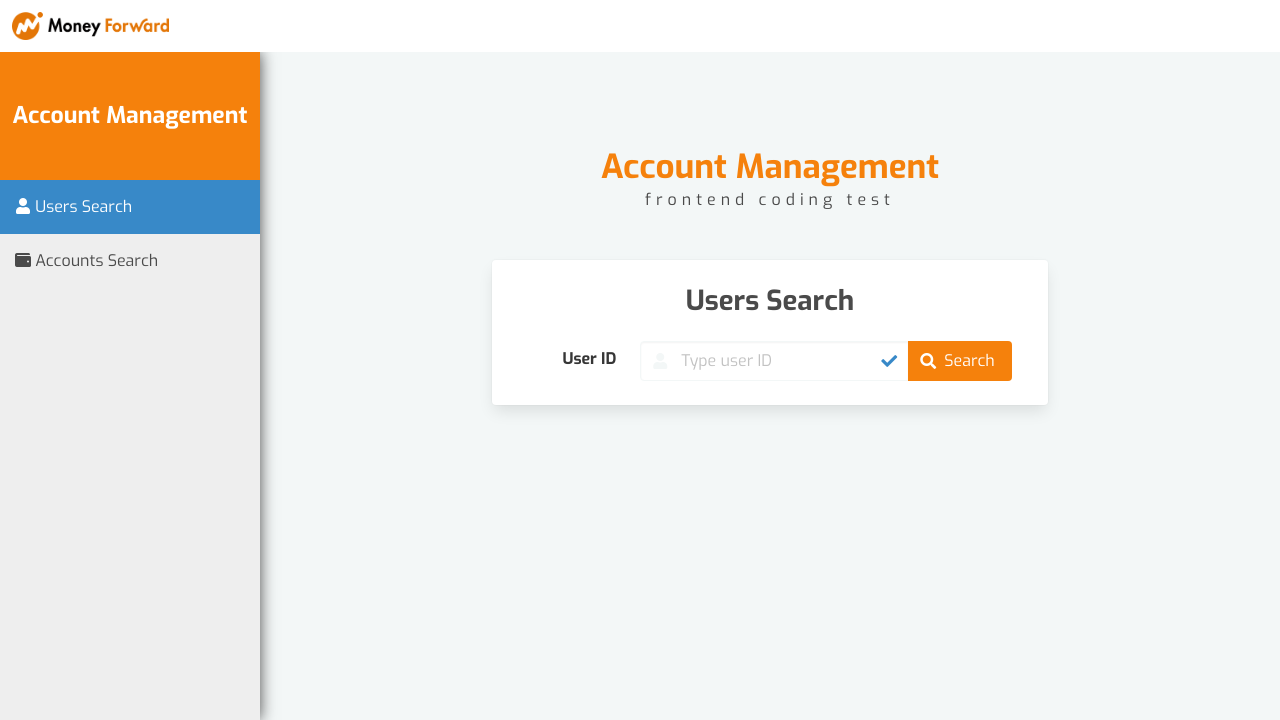
Test: Users Search › Should submit users search form
Type "1" into the field with placeholder "Type user ID" at (775, 361), box [640,341,909,381]
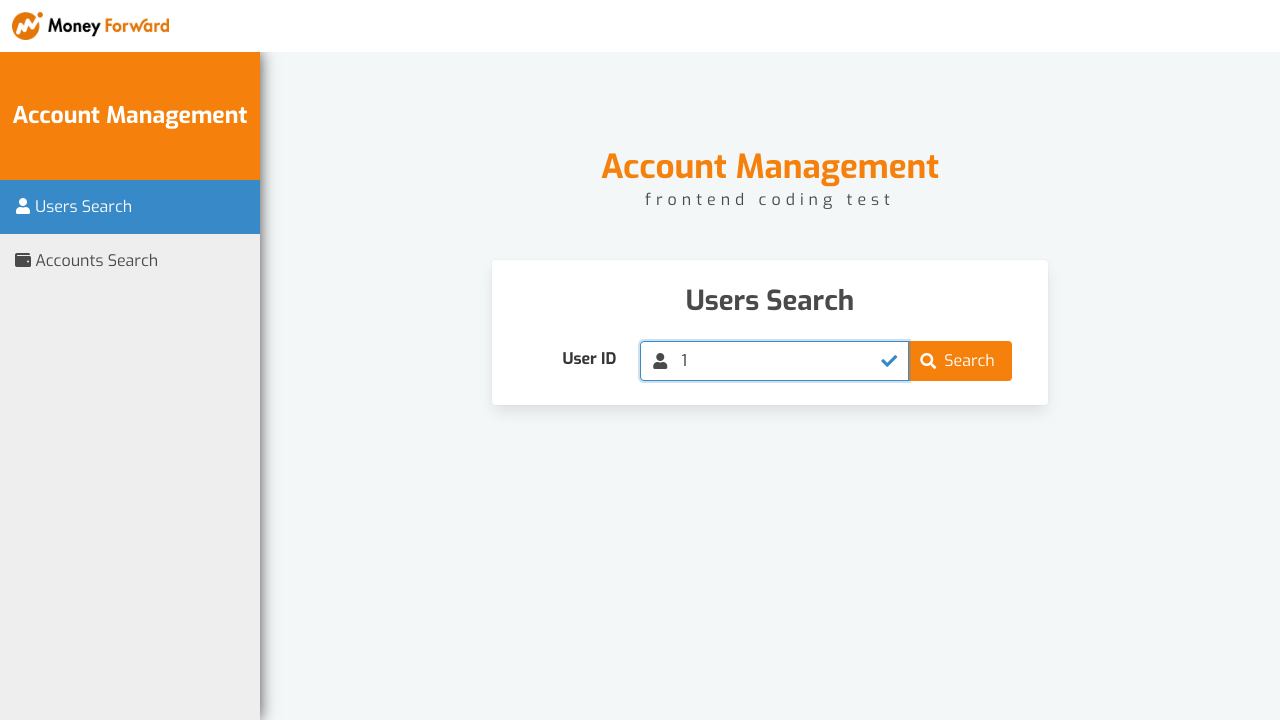
Note: Click search button
Click the button "Search" at (960, 361), box [908,341,1012,381]
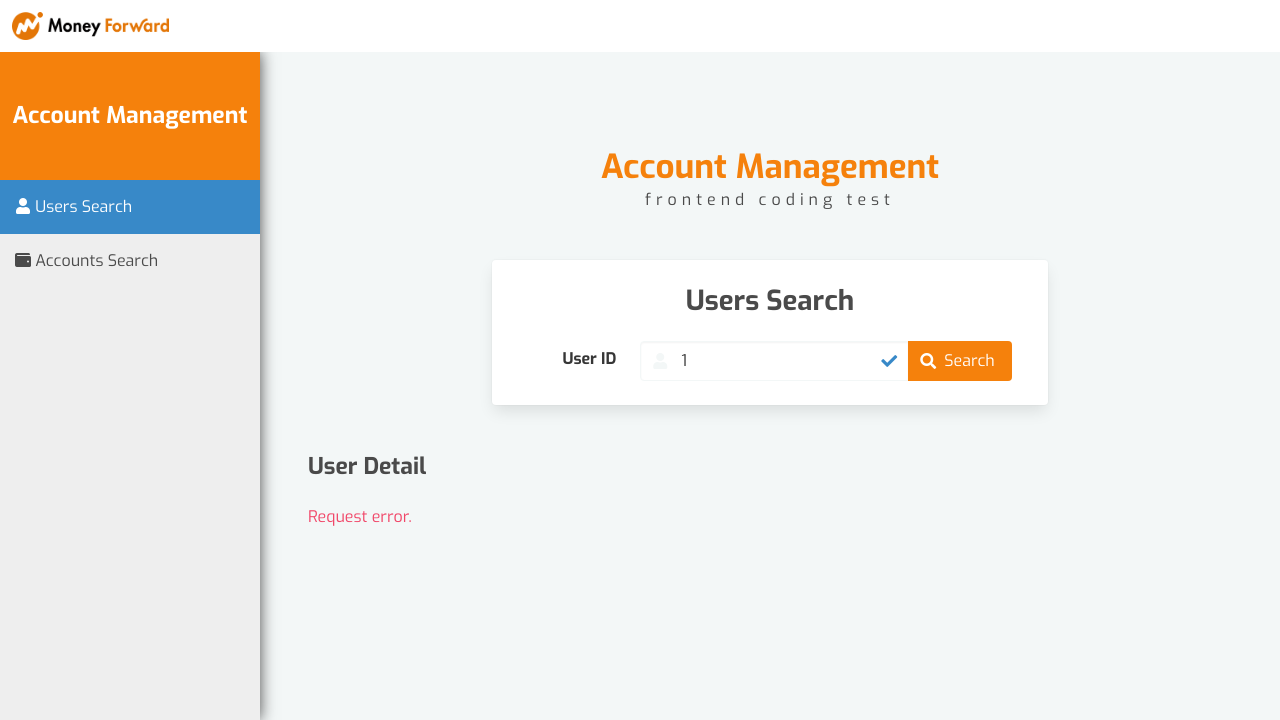
Result: the heading "User Detail" is shown at [308,451,426,482]
